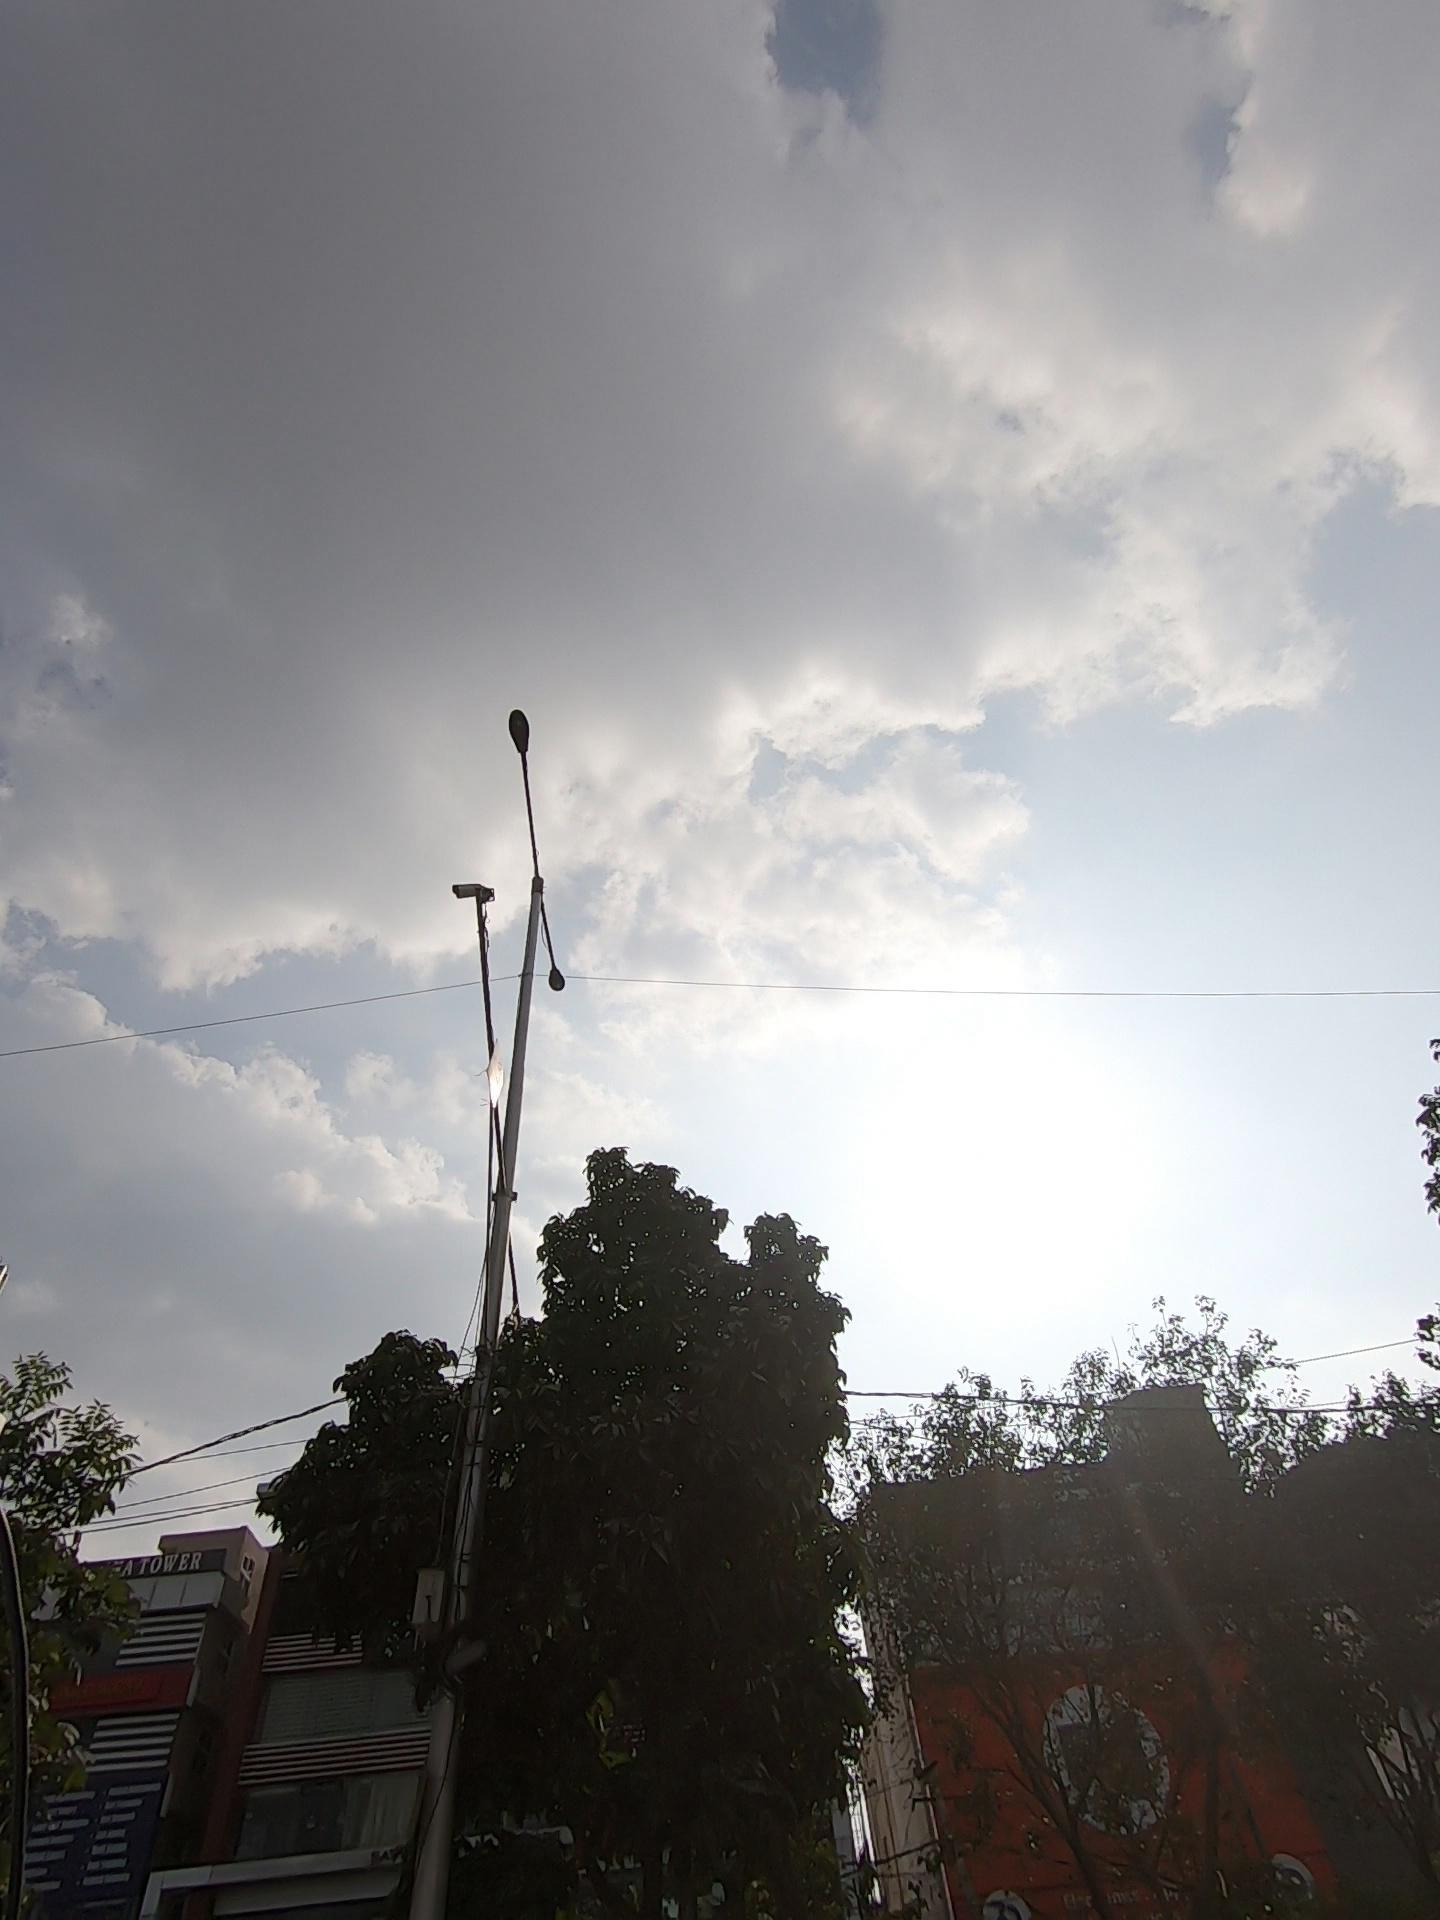off: (421, 646, 672, 1143)
